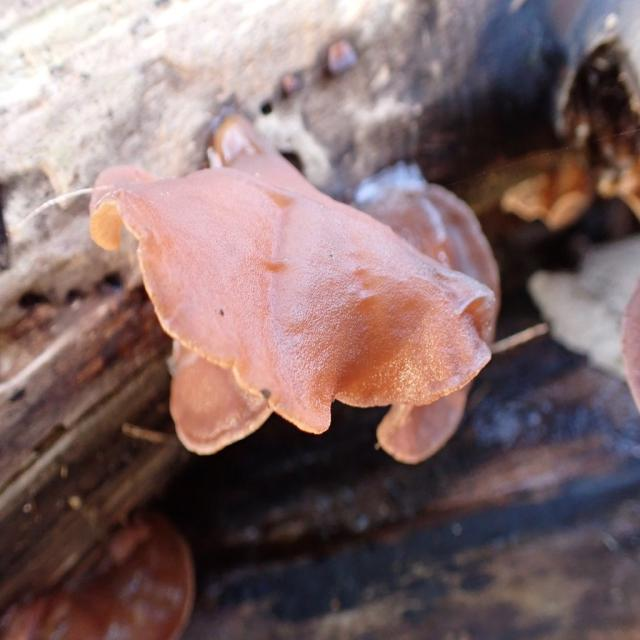Matang: (88, 114, 506, 438), (163, 334, 278, 455)
